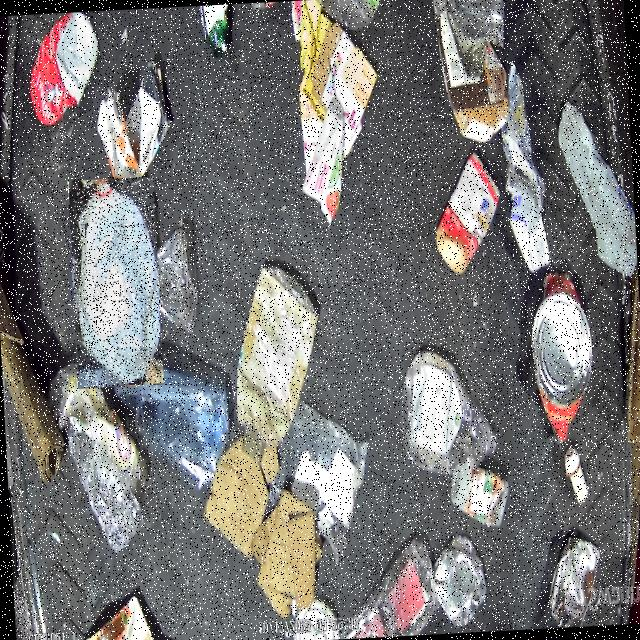milk-jug: (68, 176, 164, 388)
